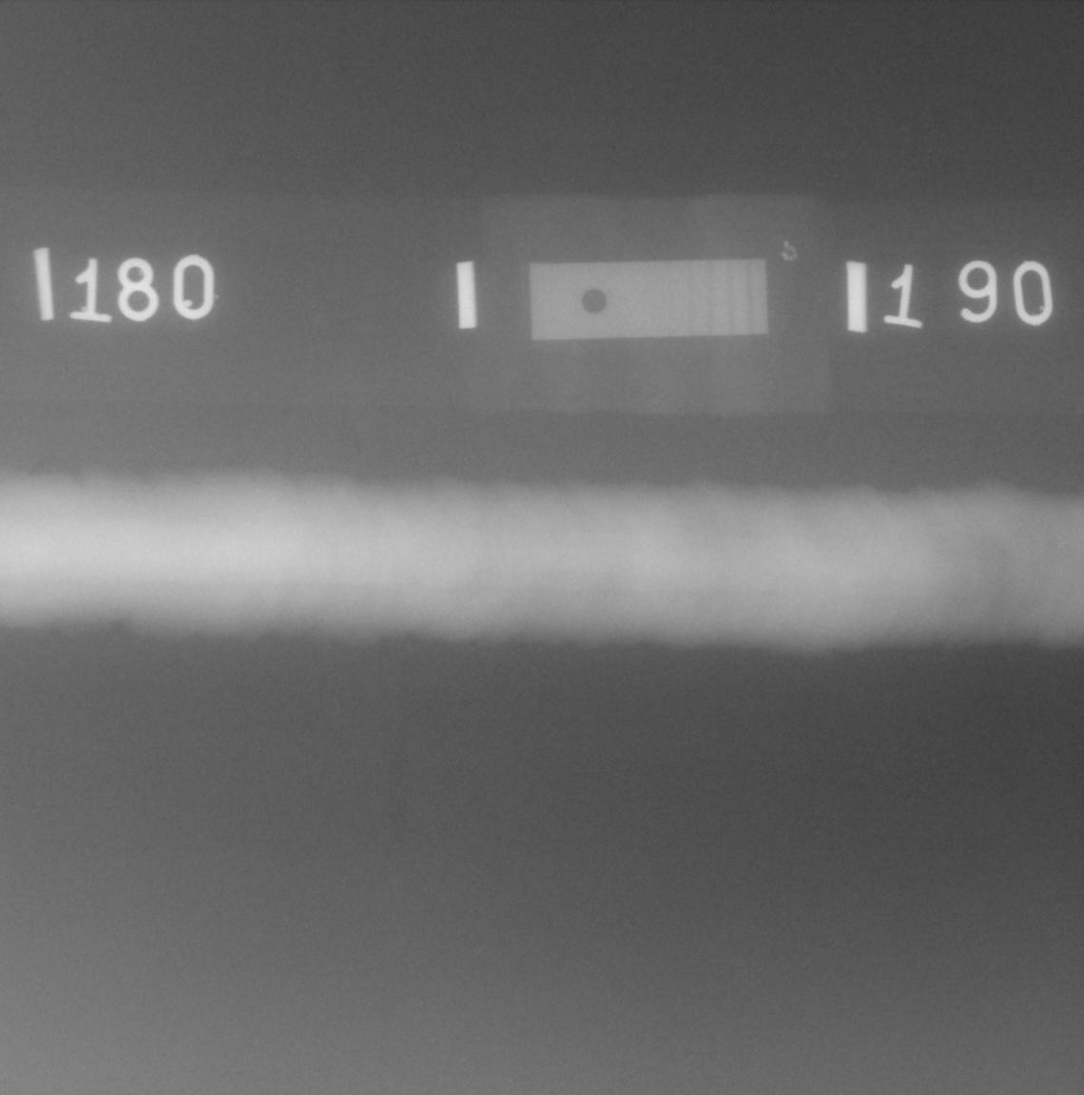Reference Standard 1: (530, 259, 768, 341)
